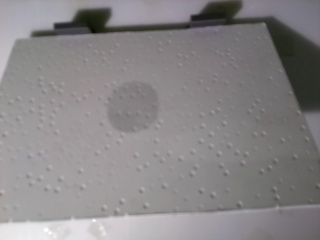Water_detected: (110, 82, 164, 137)
